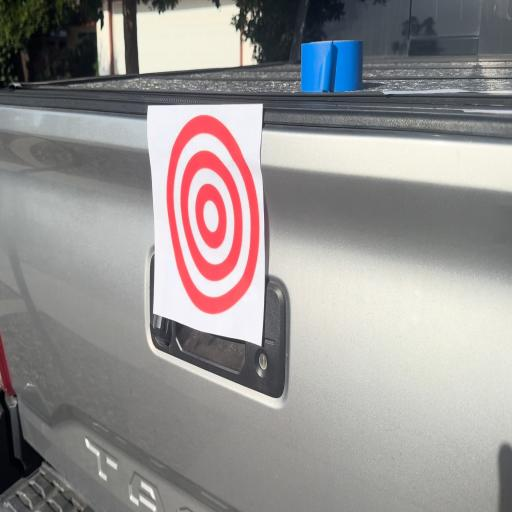bullseye: (165, 115, 258, 314)
